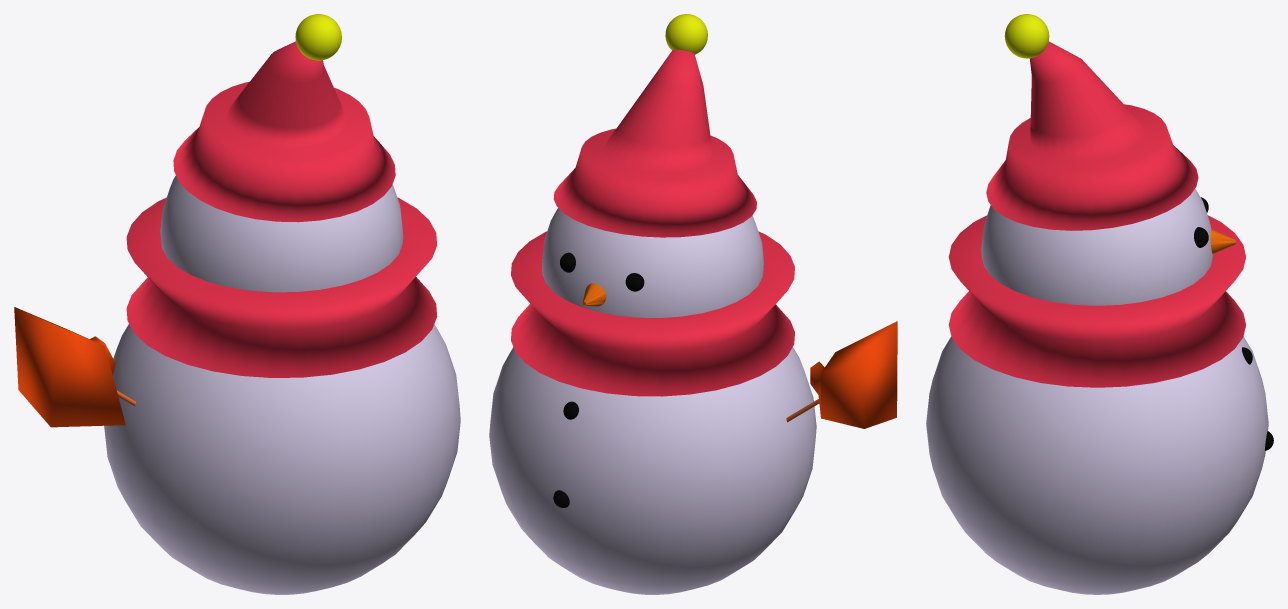
The model's file is snowman.gltf.
The picture shows the model from 3 angles, left to right: view 1: azimuth 30°, elevation 25°; view 2: azimuth 150°, elevation 25°; view 3: azimuth 270°, elevation 25°; orthographic projection. The views are drawn at different scales.
Parts seen in each view (by area): view 1: 球, 円柱.008, 円柱.010, 球.001, 立方体, 球.006; view 2: 球, 円柱.008, 円柱.010, 球.001, 立方体, 球.006; view 3: 球, 円柱.008, 円柱.010, 球.001, 球.006.
Boxes of the visible parts, bbox=[...] form: 球: bbox=[104, 324, 460, 594]; 円柱.008: bbox=[126, 197, 437, 377]; 円柱.010: bbox=[173, 41, 395, 222]; 球.001: bbox=[160, 175, 403, 292]; 立方体: bbox=[14, 307, 125, 427]; 球.006: bbox=[295, 14, 341, 60]; 球: bbox=[489, 347, 816, 594]; 円柱.008: bbox=[511, 231, 794, 396]; 円柱.010: bbox=[553, 49, 756, 237]; 球.001: bbox=[542, 208, 763, 317]; 立方体: bbox=[810, 321, 897, 428]; 球.006: bbox=[665, 14, 707, 54]; 球: bbox=[926, 336, 1268, 594]; 円柱.008: bbox=[948, 215, 1245, 387]; 円柱.010: bbox=[986, 41, 1198, 230]; 球.001: bbox=[981, 188, 1213, 305]; 球.006: bbox=[1004, 14, 1049, 58].
Size of the model in its own units: 2.59 by 3.61 by 2.02.
